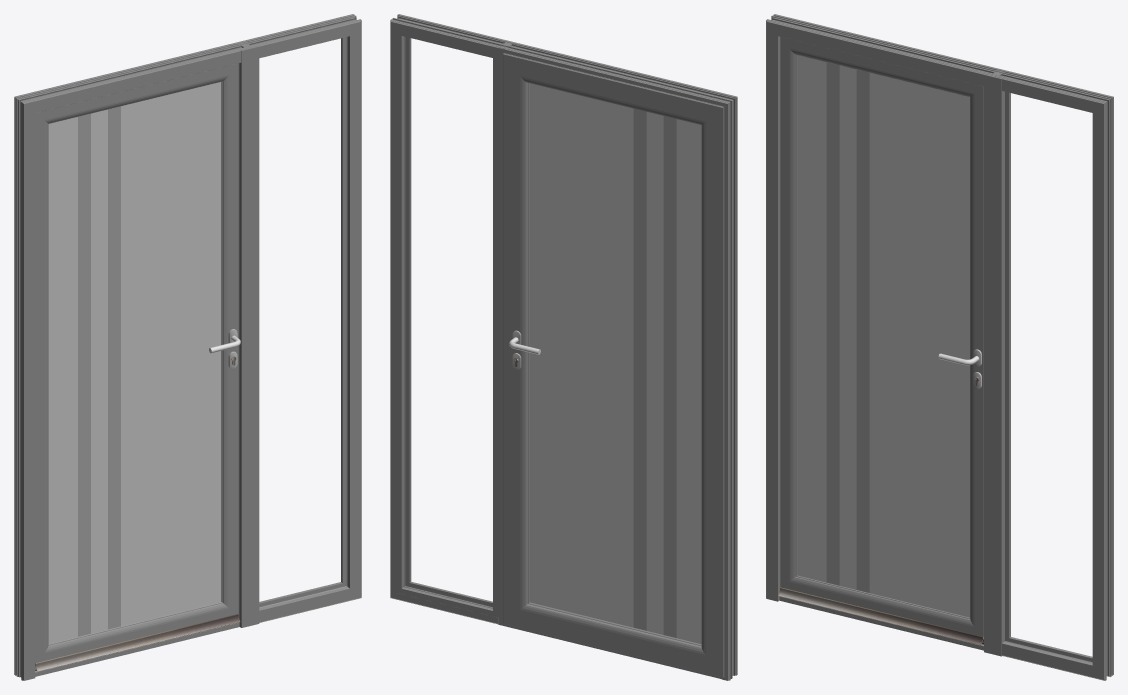
3 renders of one model, left to right at view 1: azimuth 30°, elevation 25°; view 2: azimuth 150°, elevation 25°; view 3: azimuth 330°, elevation 25°, orthographic.
Parts seen in each view (by area): view 1: fosco_16, aroFixo, aroMovel, transparente_16, montanteCentral, bite, borracha, escovas, rodaPe; view 2: fosco_16, aroMovel, aroFixo, transparente_16, bite, montanteCentral, borracha, rodaPe; view 3: fosco_16, aroFixo, aroMovel, transparente_16, montanteCentral, bite, escovas, borracha, rodaPe.
Part boxes in pixels (x1,y1,x2,y2): fosco_16: (48, 82, 221, 643); aroFixo: (14, 14, 361, 680); aroMovel: (35, 63, 238, 663); transparente_16: (78, 106, 120, 636); montanteCentral: (238, 42, 259, 627); bite: (259, 37, 346, 607); borracha: (259, 37, 345, 606); escovas: (35, 614, 240, 671); rodaPe: (35, 622, 239, 676); fosco_16: (529, 83, 701, 644); aroMovel: (503, 53, 724, 677); aroFixo: (390, 14, 737, 680); transparente_16: (633, 108, 676, 637); bite: (396, 29, 498, 617); montanteCentral: (498, 40, 518, 626); borracha: (404, 36, 492, 608); rodaPe: (505, 624, 721, 679); fosco_16: (797, 55, 969, 617); aroFixo: (766, 14, 1113, 680); aroMovel: (780, 37, 983, 638); transparente_16: (826, 62, 869, 592); montanteCentral: (984, 70, 1004, 656); bite: (1005, 91, 1092, 661); escovas: (778, 587, 983, 645); borracha: (1006, 92, 1092, 660); rodaPe: (779, 596, 983, 650).
Size of the model in its own units: 1320 by 2149 by 185.
10 materials, 4 textured.
